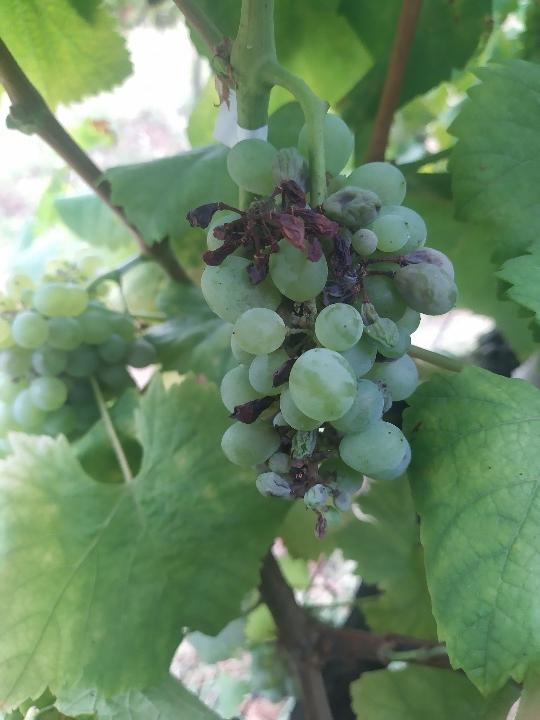grape: (187, 108, 461, 542)
